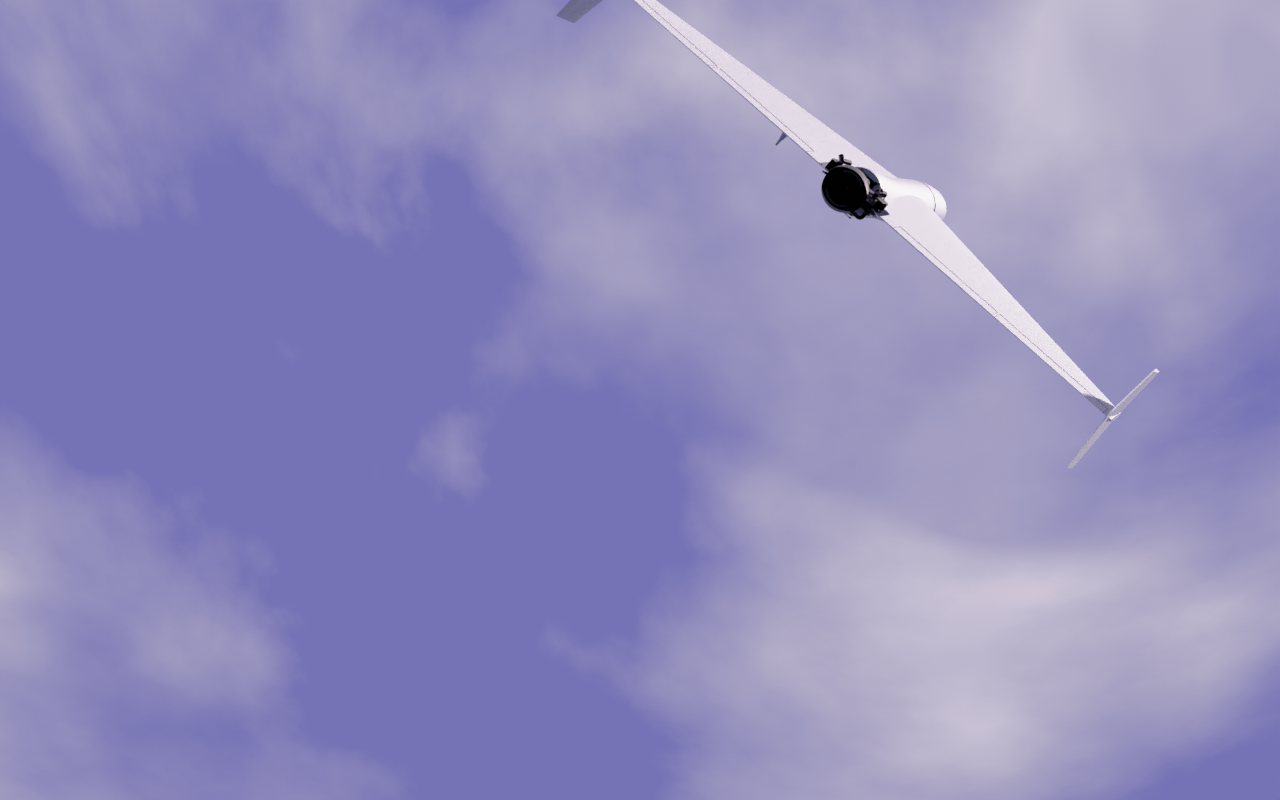shahed: (633, 1, 1161, 471)
